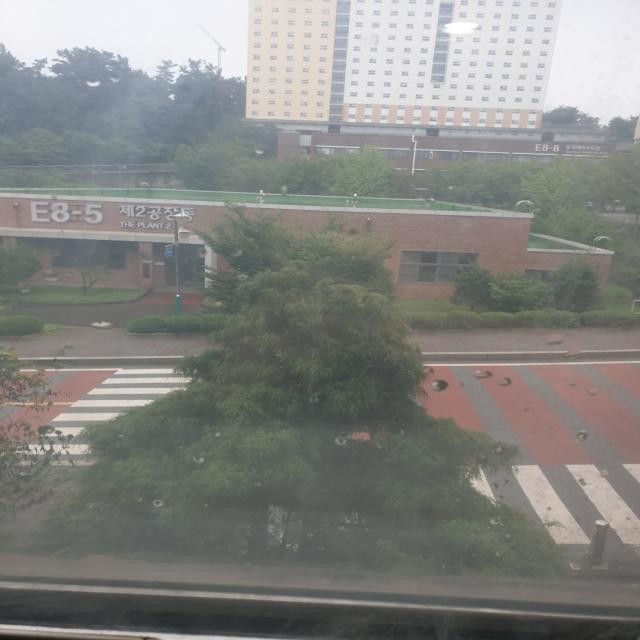raindrop: (85, 76, 102, 90), (431, 380, 448, 392), (473, 370, 491, 380), (254, 145, 270, 156), (357, 296, 369, 308), (494, 446, 506, 457), (577, 429, 587, 442), (335, 438, 348, 447), (491, 518, 504, 527), (578, 479, 591, 488), (500, 477, 510, 488), (192, 456, 205, 464), (600, 468, 612, 476), (500, 378, 511, 386), (153, 500, 164, 508), (588, 388, 598, 396), (568, 380, 578, 388), (111, 76, 122, 83), (492, 482, 497, 492)
